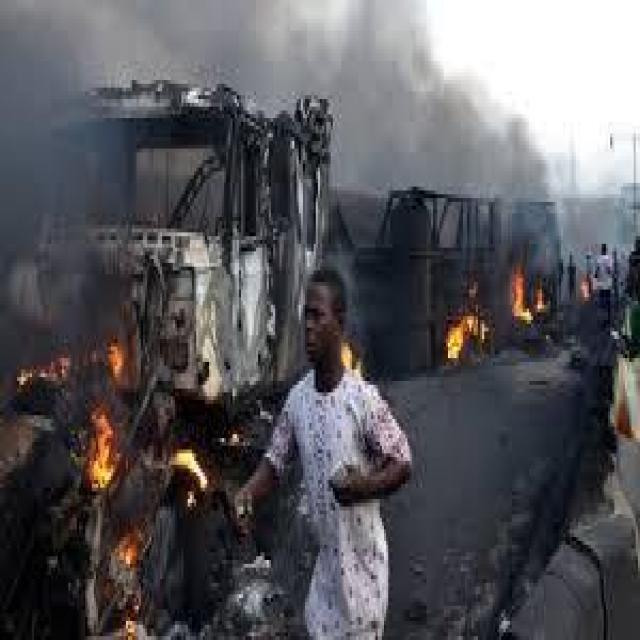fire: (18, 353, 227, 611), (433, 294, 497, 364), (507, 248, 553, 329), (337, 331, 364, 369)
smoke: (10, 61, 114, 322)
